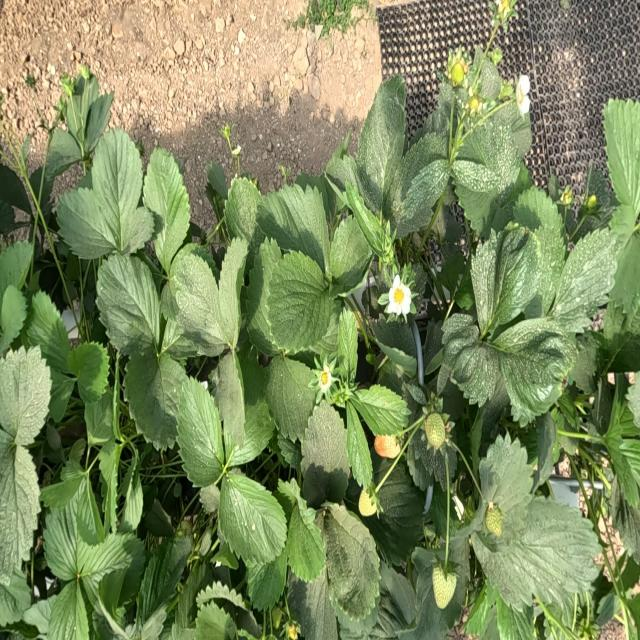Flowers: (386, 274, 411, 320), (516, 75, 530, 114), (495, 0, 516, 23), (319, 365, 332, 391)
Leaves: (472, 497, 601, 609), (492, 316, 577, 423), (471, 228, 541, 334), (356, 76, 406, 217), (321, 503, 380, 620), (267, 251, 333, 354), (96, 254, 161, 354), (219, 471, 287, 566), (125, 347, 188, 448), (91, 128, 143, 246), (258, 184, 329, 270), (362, 463, 423, 563), (0, 428, 40, 580), (143, 148, 190, 276), (402, 551, 469, 639), (391, 133, 447, 238), (555, 230, 618, 322), (480, 434, 533, 543), (170, 254, 226, 356), (440, 315, 502, 406), (176, 378, 226, 486), (300, 401, 350, 507), (0, 346, 52, 446), (603, 99, 640, 237), (458, 113, 521, 193), (235, 340, 275, 465), (44, 500, 102, 581), (82, 533, 143, 609), (138, 536, 191, 620), (266, 355, 315, 440), (245, 239, 281, 354), (57, 187, 112, 258), (371, 561, 419, 639), (27, 290, 70, 374), (287, 570, 337, 639), (224, 177, 265, 260), (285, 498, 325, 582), (218, 237, 247, 349), (329, 215, 372, 286), (349, 385, 410, 434), (604, 425, 640, 504), (215, 353, 245, 446), (404, 160, 450, 218), (47, 577, 89, 639), (68, 342, 109, 403), (452, 152, 502, 201), (604, 373, 640, 440), (175, 564, 212, 628), (41, 459, 87, 509), (346, 401, 372, 489), (610, 235, 640, 311), (66, 74, 98, 144), (247, 554, 287, 610), (0, 240, 34, 300), (412, 434, 447, 491), (274, 478, 314, 527), (494, 105, 532, 156), (76, 478, 104, 545), (45, 129, 81, 181), (0, 285, 27, 354), (83, 93, 114, 153), (533, 412, 557, 489), (371, 319, 416, 359), (496, 594, 535, 639), (465, 581, 496, 637), (118, 207, 154, 252), (0, 164, 32, 213), (569, 335, 596, 393), (195, 601, 236, 639), (84, 391, 113, 444), (338, 308, 357, 383), (49, 367, 74, 421), (466, 191, 498, 233), (437, 252, 466, 295), (327, 155, 360, 191), (145, 499, 174, 536), (596, 592, 619, 626), (207, 162, 228, 199), (212, 543, 238, 569), (60, 270, 76, 308), (200, 485, 220, 514), (401, 383, 427, 405), (41, 177, 54, 219), (0, 199, 15, 233), (69, 438, 86, 465), (46, 421, 61, 450), (30, 166, 42, 199), (199, 529, 212, 556), (83, 286, 95, 315), (448, 448, 457, 478), (173, 482, 182, 497)
Strawberries: (432, 565, 457, 609), (424, 413, 447, 450), (374, 435, 401, 458), (485, 502, 503, 536), (450, 58, 468, 86), (359, 489, 377, 516), (467, 95, 482, 113), (560, 186, 573, 205), (489, 47, 502, 66), (584, 194, 596, 210)
